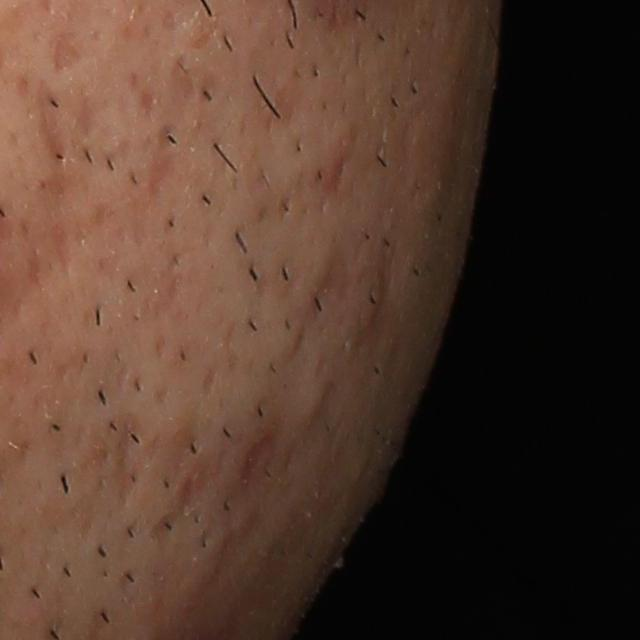atrophic_scar: (37, 77, 68, 169), (235, 429, 271, 494), (49, 29, 87, 74)
